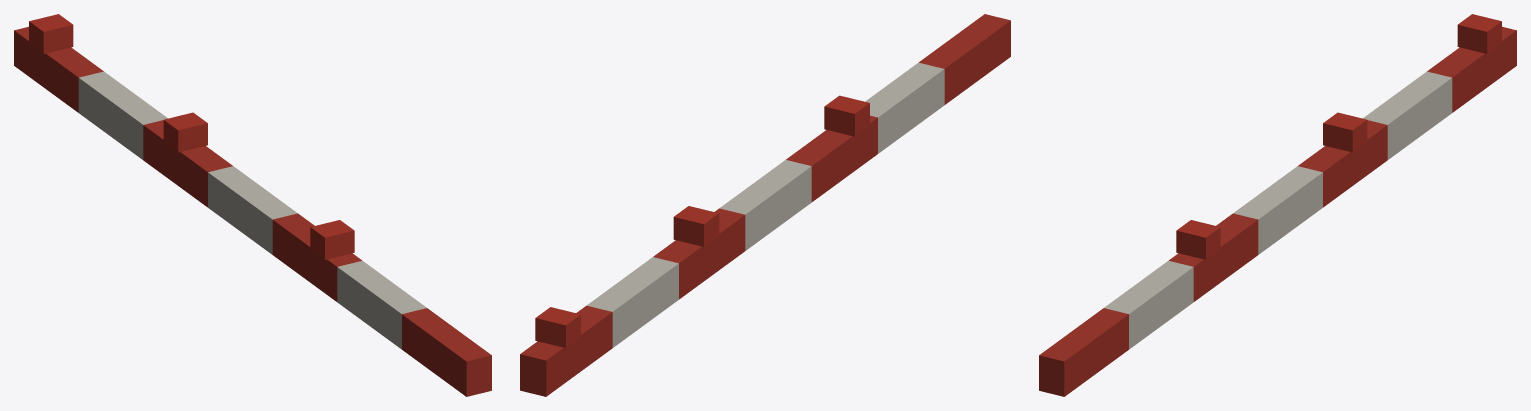
File: przejazd-rogatka-ramie.glb
3 views of the same model, side by side, from view 1: azimuth 30°, elevation 25°; view 2: azimuth 150°, elevation 25°; view 3: azimuth 330°, elevation 25° (orthographic). The views are drawn at different scales.
Parts seen in each view (by area): view 1: przejazd-rogatka-ramie; view 2: przejazd-rogatka-ramie; view 3: przejazd-rogatka-ramie.
Part boxes in pixels (x1,y1,x2,y2): przejazd-rogatka-ramie: [14, 14, 491, 396]; przejazd-rogatka-ramie: [520, 14, 1010, 396]; przejazd-rogatka-ramie: [1039, 14, 1516, 396].
Size of the model in its own units: 0.14 by 0.26 by 3.7.
